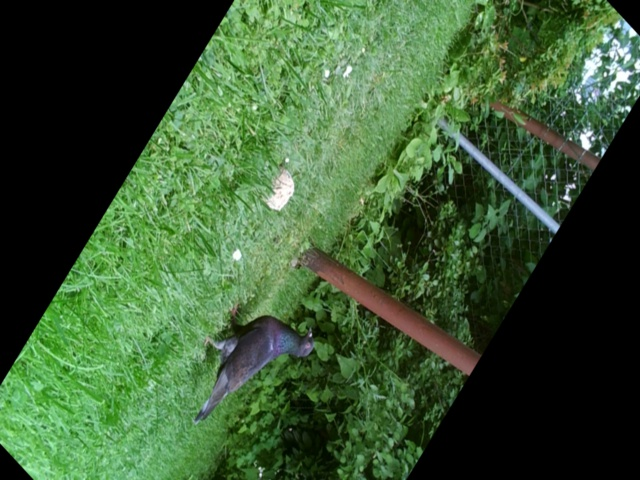Pigeon: (193, 294, 320, 433)
